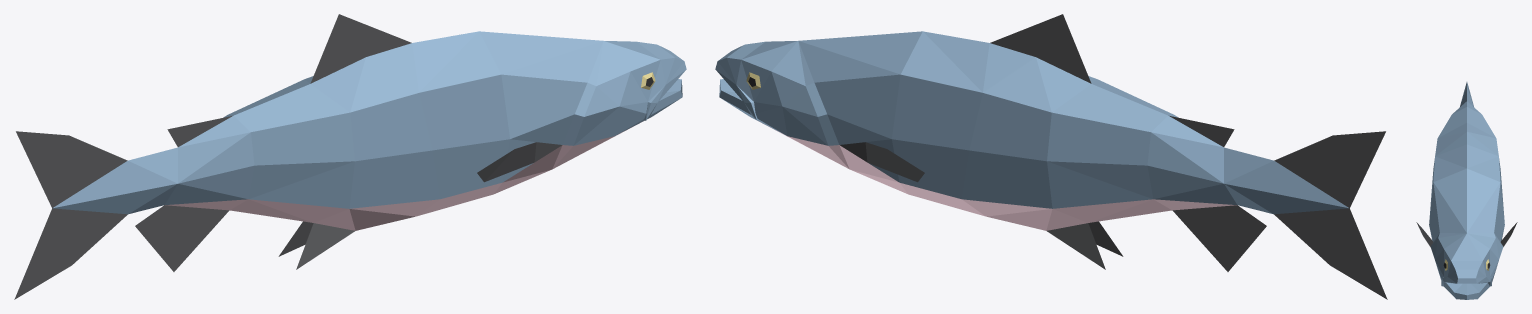
The model's file is Salmon.fbx.
3 renders of one model, left to right at view 1: azimuth 30°, elevation 25°; view 2: azimuth 150°, elevation 25°; view 3: azimuth 270°, elevation 25°, orthographic. The views are drawn at different scales.
Visible parts, largest first — view 1: Salmon; view 2: Salmon; view 3: Salmon.
Part boxes in pixels (x1,y1,x2,y2): Salmon: (14, 14, 686, 299); Salmon: (715, 14, 1387, 299); Salmon: (1416, 82, 1517, 299).
Size of the model in its own units: 3.76 by 1.28 by 0.771.
